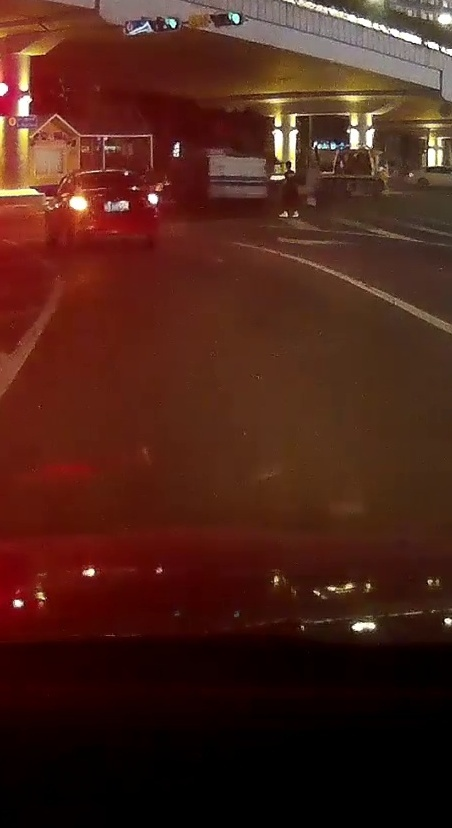L_light: (69, 198, 88, 209)
R_light: (147, 194, 159, 205)
T_light: (102, 172, 117, 176)
night-left: (68, 170, 160, 250)
